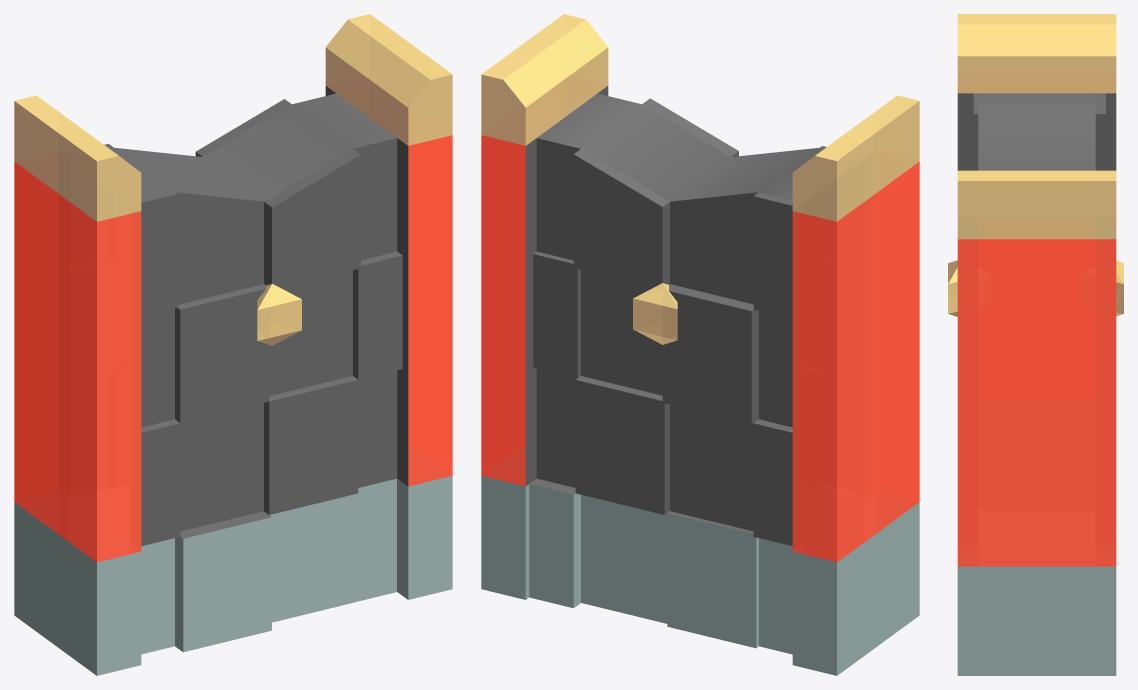
File: upgradedWall.fbx
3 renders of one model, left to right at view 1: azimuth 30°, elevation 25°; view 2: azimuth 150°, elevation 25°; view 3: azimuth 270°, elevation 25°, orthographic. The views are drawn at different scales.
Parts seen in each view (by area): view 1: upgradedWall, crystals; view 2: upgradedWall, crystals1; view 3: upgradedWall, crystals, crystals1.
Boxes of the visible parts, left/top/right/bottom form: upgradedWall: left=14, top=14, right=452, bottom=675; crystals: left=257, top=284, right=301, bottom=345; upgradedWall: left=481, top=14, right=919, bottom=675; crystals1: left=633, top=283, right=677, bottom=344; upgradedWall: left=957, top=14, right=1116, bottom=675; crystals: left=948, top=260, right=957, bottom=316; crystals1: left=1116, top=261, right=1123, bottom=316.
Size of the model in its own units: 180 by 249 by 80.08.
